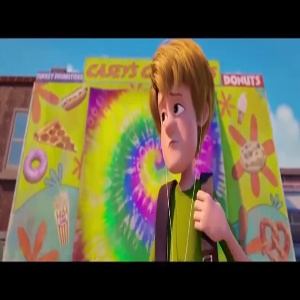Shagy: (139, 32, 222, 177)
